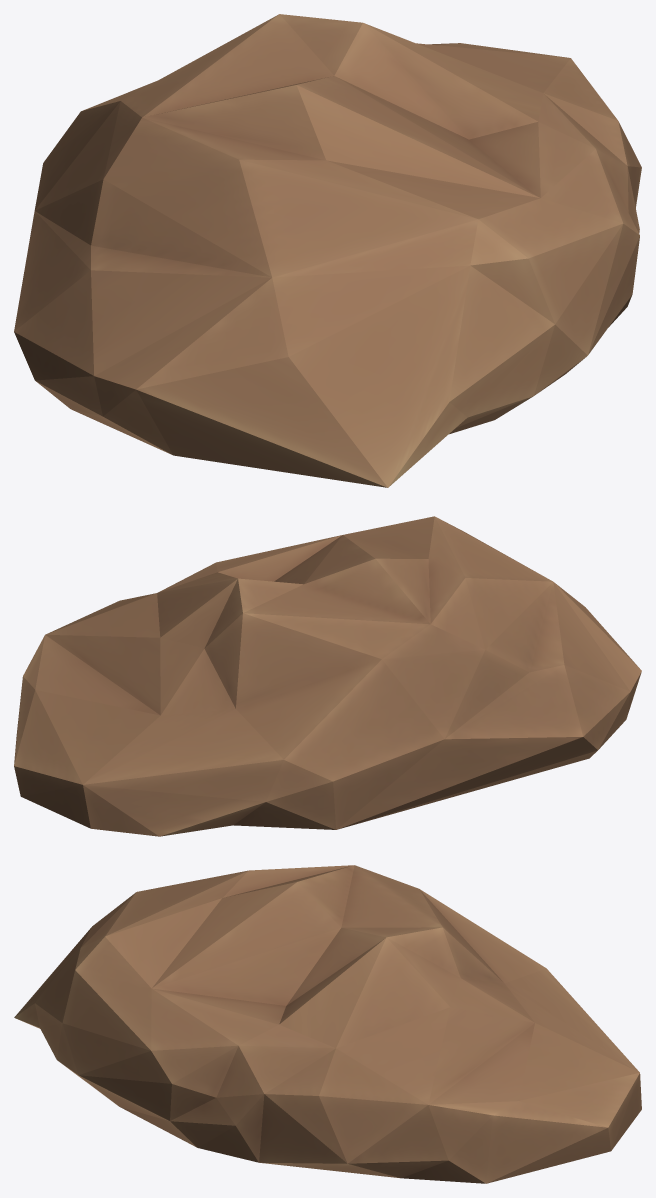
Rendered from Rock_26.fbx.
3 views of the same model, one above another, from view 1: azimuth 30°, elevation 25°; view 2: azimuth 150°, elevation 25°; view 3: azimuth 270°, elevation 25° (orthographic). The views are drawn at different scales.
Parts seen in each view (by area): view 1: Rock_26; view 2: Rock_26; view 3: Rock_26.
Boxes of the visible parts, left/top/right/bottom form: Rock_26: left=14, top=14, right=641, bottom=487; Rock_26: left=14, top=516, right=641, bottom=836; Rock_26: left=14, top=865, right=641, bottom=1183.
Size of the model in its own units: 46.78 by 52.47 by 15.89.
Materials: 1 (1 with a texture image).
